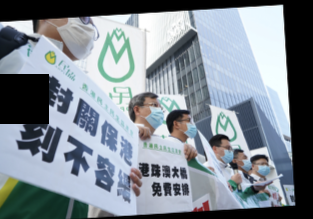with_mask: (56, 17, 97, 61), (142, 98, 165, 129), (180, 116, 199, 139), (218, 143, 236, 164), (255, 159, 272, 176), (238, 153, 253, 171)
